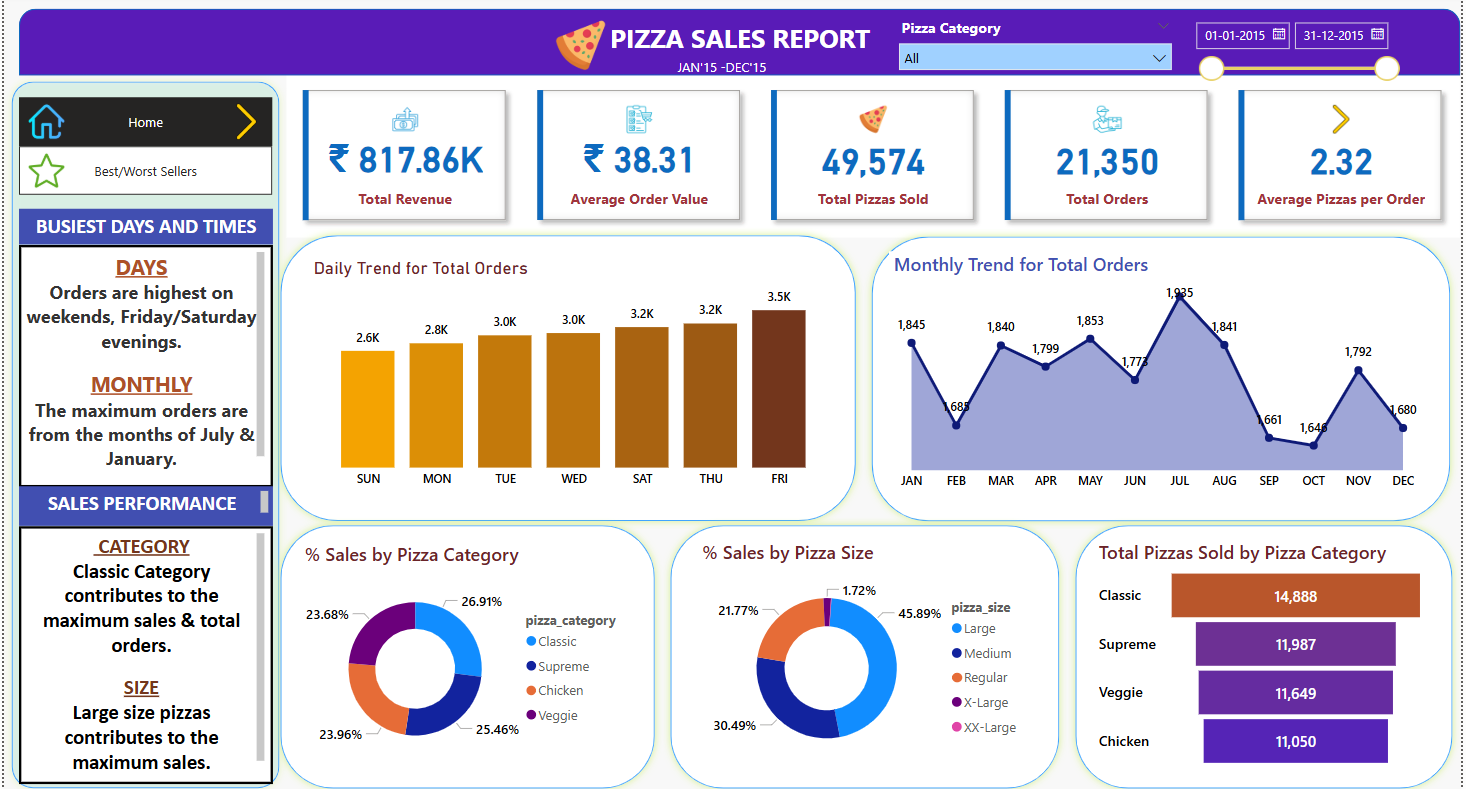

The dashboard page shown, as its layout file describes it:
{"tool":"powerbi","page":{"name":"Home","canvas":[1500,820],"ordinal":0},"visuals":[{"type":"shape","box":[0,76.3,291.6,744],"z":0},{"type":"cardVisual","fields":{"Data":["pizzadb pizza_sales.Total Revenue","pizzadb pizza_sales.Average Order Value","pizzadb pizza_sales.Total Pizzas Sold","pizzadb pizza_sales.Total Orders","pizzadb pizza_sales.Average Pizzas per Order"]},"box":[291.6,76.3,1208.7,169],"z":1000},{"type":"shape","box":[15,8.8,1485,68.8],"z":2000},{"type":"textbox","box":[620,15,354.3,50.4],"z":3000},{"type":"textbox","box":[689.5,55.9,271.2,40.9],"z":4000},{"type":"image","box":[551.9,15,83.1,62.7],"z":5000},{"type":"shape","box":[276.6,234.4,609.1,310.7],"z":6000},{"type":"columnChart","title":"Daily Trend for Total Orders","fields":{"Category":["pizzadb pizza_sales.Order Day"],"Y":["pizzadb pizza_sales.Total Orders"]},"box":[314.8,265.7,546.4,246.6],"z":7000},{"type":"shape","box":[885.7,235.7,611.8,309.3],"z":8000},{"type":"areaChart","title":"Monthly Trend for Total Orders","fields":{"Y":["pizzadb pizza_sales.Total Orders"],"Category":["pizzadb pizza_sales.Order Month"]},"box":[911.6,258.9,553.2,254.8],"z":9000},{"type":"shape","box":[678.6,532.8,417,287.5],"z":10000},{"type":"shape","box":[276.6,532.8,402,287.5],"z":11000},{"type":"shape","box":[1095.6,532.8,404.7,287.5],"z":12000},{"type":"donutChart","title":"% Sales by Pizza Category","fields":{"Category":["pizzadb pizza_sales.pizza_category"],"Y":["pizzadb pizza_sales.Total Revenue"]},"box":[305.2,557.3,346.1,238.5],"z":13000},{"type":"donutChart","title":"% Sales by Pizza Size","fields":{"Category":["pizzadb pizza_sales.pizza_size"],"Y":["pizzadb pizza_sales.Total Revenue"]},"box":[714,556,346.1,239.8],"z":14000},{"type":"funnel","title":"Total Pizzas Sold by Pizza Category","fields":{"Y":["pizzadb pizza_sales.Total Pizzas Sold"],"Category":["pizzadb pizza_sales.pizza_category"]},"box":[1122.8,556,346.1,239.8],"z":15000},{"type":"textbox","box":[15,215.3,261.6,36.8],"z":16000},{"type":"textbox","box":[15,252.1,261.6,249.4],"z":17000},{"type":"textbox","box":[15,501.5,261.6,40.9],"z":18000},{"type":"textbox","box":[15,542.3,261.6,265.7],"z":19000},{"type":"slicer","fields":{"Values":["pizzadb pizza_sales.pizza_category"]},"box":[911.6,12.3,301.1,61.3],"z":20000},{"type":"slicer","fields":{"Values":["pizzadb pizza_sales.order_date"]},"box":[1215.5,12.3,230.3,84.5],"z":21000},{"type":"pageNavigator","box":[15.5,100.4,261.4,50.2],"z":22000},{"type":"pageNavigator","box":[15.5,150.7,261.4,50.2],"z":23000},{"type":"image","box":[225.3,101.7,48.9,47.6],"z":24000},{"type":"image","box":[20.6,100.4,46.4,50.2],"z":25000},{"type":"image","box":[20.6,149.4,46.4,52.8],"z":26000}]}

Visuals, with their boxes in screenshot pixels (x1, y1, x2, y2), scaled from the page's 1500x820 canvas onto the 1466x789 screenshot:
shape: (0, 73, 285, 788)
cardVisual - pizzadb pizza_sales.Total Revenue x pizzadb pizza_sales.Average Order Value: (285, 73, 1465, 236)
shape: (15, 8, 1465, 75)
textbox: (606, 14, 952, 63)
textbox: (674, 54, 939, 93)
image: (539, 14, 621, 75)
shape: (270, 226, 866, 524)
"Daily Trend for Total Orders" columnChart: (308, 256, 842, 493)
shape: (866, 227, 1464, 524)
"Monthly Trend for Total Orders" areaChart: (891, 249, 1432, 494)
shape: (663, 513, 1071, 788)
shape: (270, 513, 663, 788)
shape: (1071, 513, 1465, 788)
"% Sales by Pizza Category" donutChart: (298, 536, 637, 766)
"% Sales by Pizza Size" donutChart: (698, 535, 1036, 766)
"Total Pizzas Sold by Pizza Category" funnel: (1097, 535, 1436, 766)
textbox: (15, 207, 270, 243)
textbox: (15, 243, 270, 483)
textbox: (15, 483, 270, 522)
textbox: (15, 522, 270, 777)
slicer - pizzadb pizza_sales.pizza_category: (891, 12, 1185, 71)
slicer - pizzadb pizza_sales.order_date: (1188, 12, 1413, 93)
pageNavigator: (15, 97, 271, 145)
pageNavigator: (15, 145, 271, 193)
image: (220, 98, 268, 144)
image: (20, 97, 65, 145)
image: (20, 144, 65, 195)
